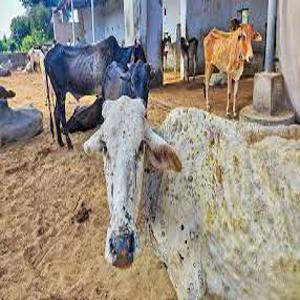lumpy skin diesease: (82, 95, 299, 299), (82, 94, 182, 269), (41, 34, 149, 150), (202, 21, 262, 117), (0, 82, 43, 151), (23, 45, 44, 73)
